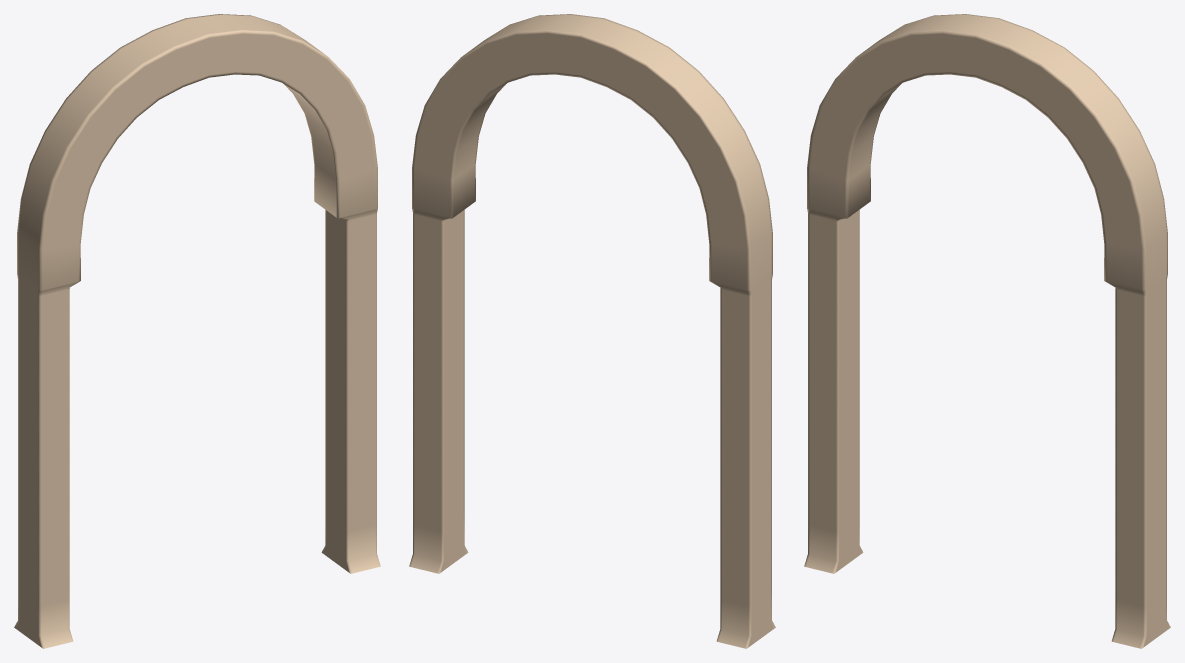
The model's file is PortalArch.fbx.
3 views of the same model, side by side, from view 1: azimuth 30°, elevation 25°; view 2: azimuth 150°, elevation 25°; view 3: azimuth 330°, elevation 25° (orthographic).
Parts seen in each view (by area): view 1: Arch_LP.001; view 2: Arch_LP.001; view 3: Arch_LP.001.
Part boxes in pixels (x1,y1,x2,y2): Arch_LP.001: (14,14,380,648); Arch_LP.001: (409,14,775,648); Arch_LP.001: (804,14,1170,648).
Size of the model in its own units: 2.71 by 4.37 by 0.4068.
